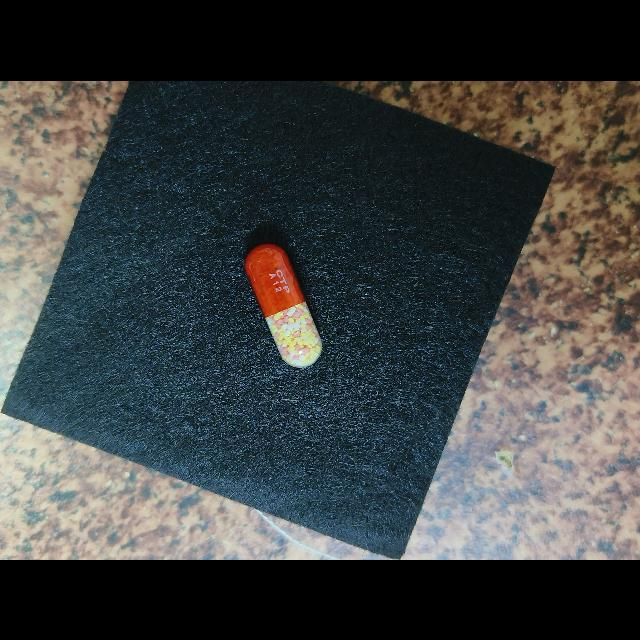Intact Capsule: (245, 243, 322, 367)
